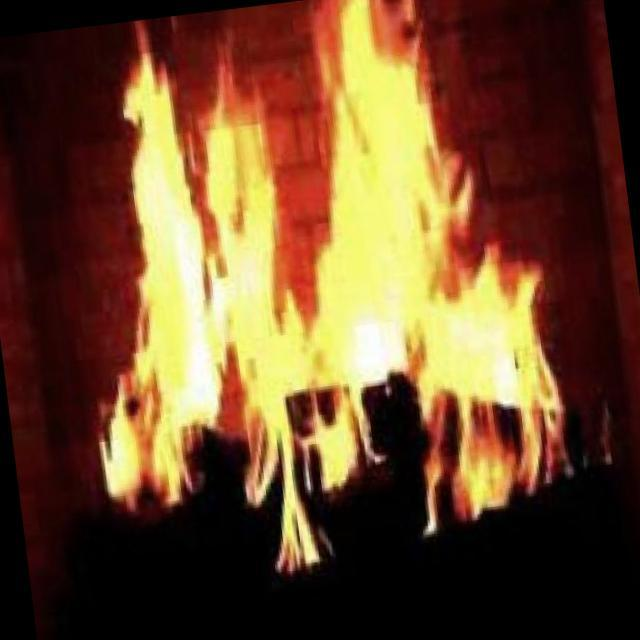Fire: (56, 1, 535, 496)
